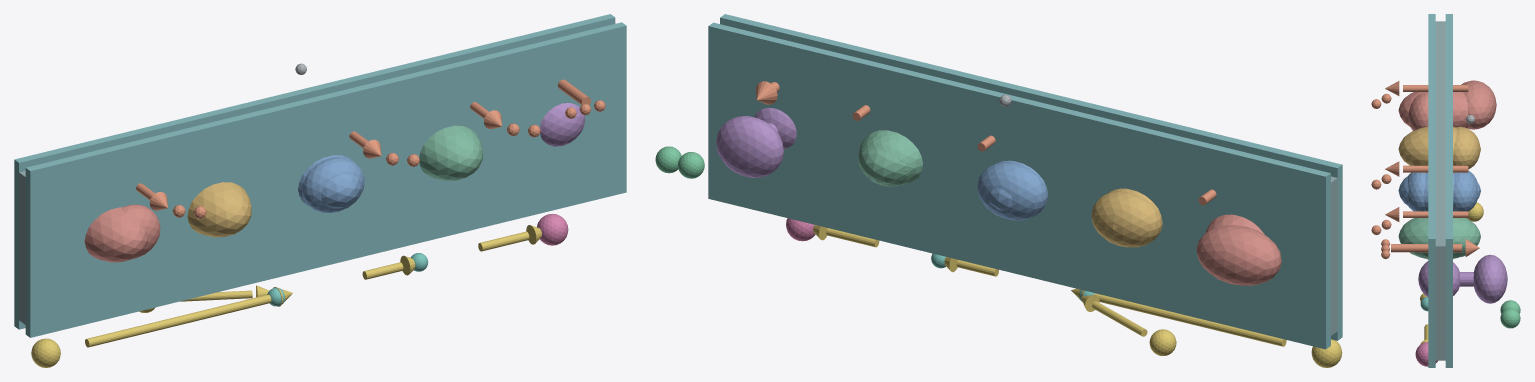
The picture shows the model from 3 angles, left to right: view 1: azimuth 30°, elevation 25°; view 2: azimuth 150°, elevation 25°; view 3: azimuth 270°, elevation 25°; orthographic projection. The views are drawn at different scales.
Visible parts, largest first — view 1: Inner_membrane_outer_head_groups, Inner_membrane_inner_head_groups, Complex_IV_membrane_core, Complex_II_membrane_core, Complex_I_membrane_core, Electron_flow_I_to_III_shaft, Complex_III_upper_domain, ATP_synthase_membrane_rotor, Complex_III_membrane_core, Inner_membrane_hydrophobic_core, Complex_I_membrane_lobe, Oxygen_final_acceptor (+2 smaller); view 2: Inner_membrane_inner_head_groups, Inner_membrane_outer_head_groups, Complex_I_matrix_arm, ATP_synthase_F1_head, Complex_II_matrix_domain, Complex_III_matrix_domain, Complex_IV_membrane_core, Electron_flow_I_to_III_shaft, Inner_membrane_hydrophobic_core, Complex_IV_matrix_domain, ATP_synthase_membrane_rotor, NADH_input (+4 smaller); view 3: Inner_membrane_hydrophobic_core, Inner_membrane_outer_head_groups, Inner_membrane_inner_head_groups, ATP_synthase_F1_head, Complex_IV_membrane_core, Complex_I_matrix_arm, Complex_II_membrane_core, Complex_II_matrix_domain, Complex_III_matrix_domain, Complex_I_membrane_core, Complex_III_upper_domain, Complex_I_membrane_lobe (+13 smaller).
Part boxes in pixels (box(x1,y1,x2,y2)): Inner_membrane_outer_head_groups: box(25, 22, 626, 337); Inner_membrane_inner_head_groups: box(14, 14, 615, 329); Complex_IV_membrane_core: box(419, 125, 482, 180); Complex_II_membrane_core: box(187, 182, 251, 237); Complex_I_membrane_core: box(84, 207, 147, 262); Electron_flow_I_to_III_shaft: box(85, 294, 271, 347); Complex_III_upper_domain: box(302, 157, 364, 212); ATP_synthase_membrane_rotor: box(540, 103, 585, 146); Complex_III_membrane_core: box(298, 155, 361, 208); Inner_membrane_hydrophobic_core: box(18, 171, 26, 324); Complex_I_membrane_lobe: box(121, 204, 160, 258); Oxygen_final_acceptor: box(537, 214, 568, 245); Inner_membrane_inner_head_groups: box(708, 22, 1330, 349); Inner_membrane_outer_head_groups: box(720, 14, 1342, 340); Complex_I_matrix_arm: box(1196, 225, 1281, 285); ATP_synthase_F1_head: box(716, 116, 783, 177); Complex_II_matrix_domain: box(1091, 191, 1162, 247); Complex_III_matrix_domain: box(977, 162, 1047, 220); Complex_IV_membrane_core: box(858, 130, 922, 184); Electron_flow_I_to_III_shaft: box(1094, 293, 1286, 346); Inner_membrane_hydrophobic_core: box(1330, 176, 1338, 336); Complex_IV_matrix_domain: box(858, 134, 909, 186); ATP_synthase_membrane_rotor: box(754, 107, 796, 148); NADH_input: box(1311, 339, 1342, 367); Inner_membrane_hydrophobic_core: box(1434, 21, 1446, 360); Inner_membrane_outer_head_groups: box(1428, 14, 1435, 367); Inner_membrane_inner_head_groups: box(1445, 14, 1452, 367); ATP_synthase_F1_head: box(1473, 254, 1507, 303); Complex_IV_membrane_core: box(1398, 218, 1480, 259); Complex_I_matrix_arm: box(1461, 80, 1496, 129); Complex_II_membrane_core: box(1398, 126, 1480, 165); Complex_II_matrix_domain: box(1453, 126, 1480, 169); Complex_III_matrix_domain: box(1453, 170, 1477, 211); Complex_I_membrane_core: box(1398, 92, 1468, 127); Complex_III_upper_domain: box(1408, 172, 1425, 211); Complex_I_membrane_lobe: box(1408, 93, 1428, 130).
Size of the model in its own units: 8 by 2.7 by 2.2.
